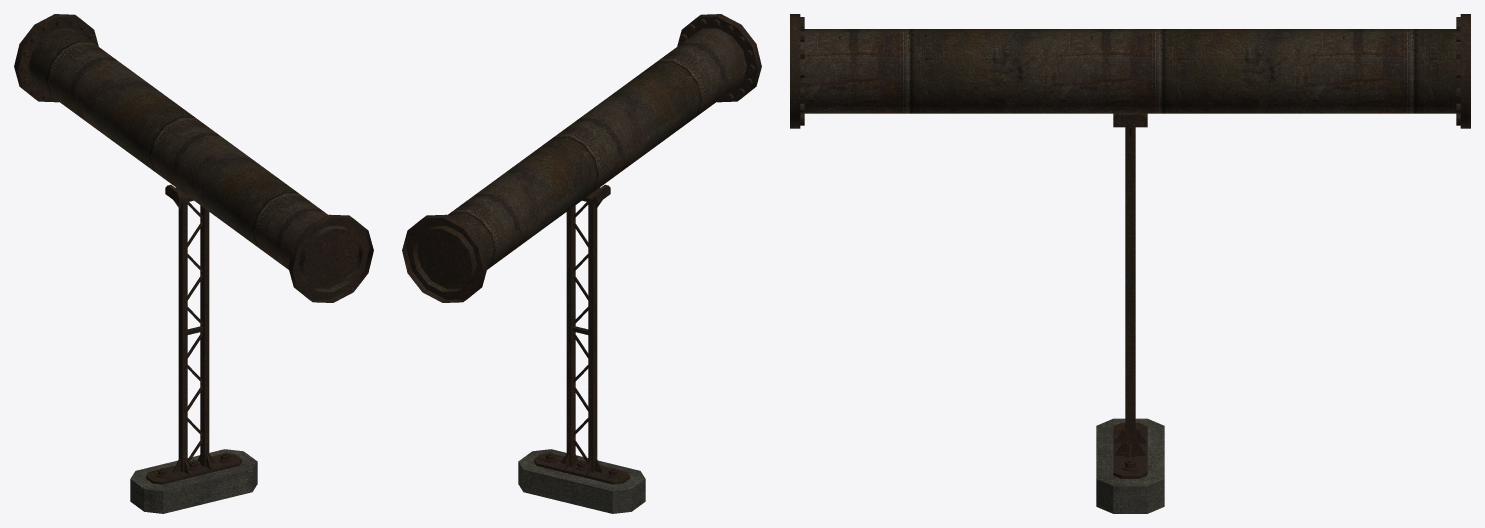
File: pipe_cx_1.glb
3 views of the same model, side by side, from view 1: azimuth 30°, elevation 25°; view 2: azimuth 150°, elevation 25°; view 3: azimuth 270°, elevation 25° (orthographic). The views are drawn at different scales.
Visible parts, largest first — view 1: pipe_cx_1; view 2: pipe_cx_1; view 3: pipe_cx_1.
Part boxes in pixels (left/top/right/bottom): pipe_cx_1: left=14, top=14, right=373, bottom=513; pipe_cx_1: left=402, top=14, right=761, bottom=513; pipe_cx_1: left=790, top=14, right=1470, bottom=513.
Bounding box in the file's own units: 0.94 × 2.99 × 4.
3 materials, 3 textured.
